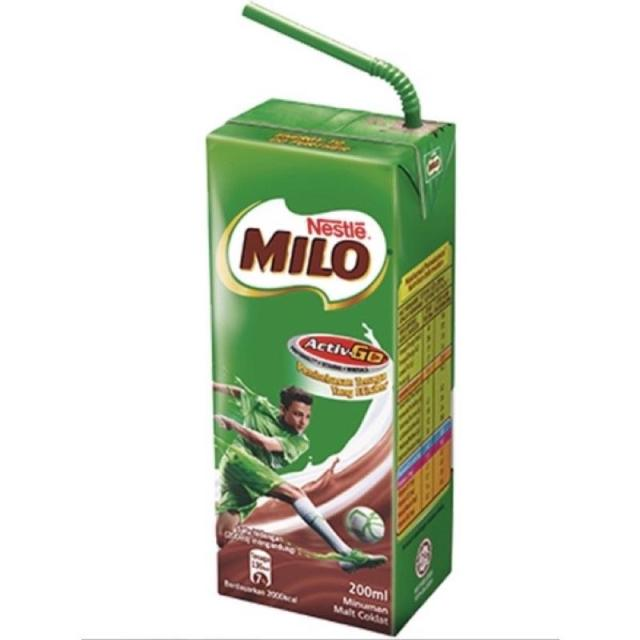drink carton: (205, 94, 457, 633)
